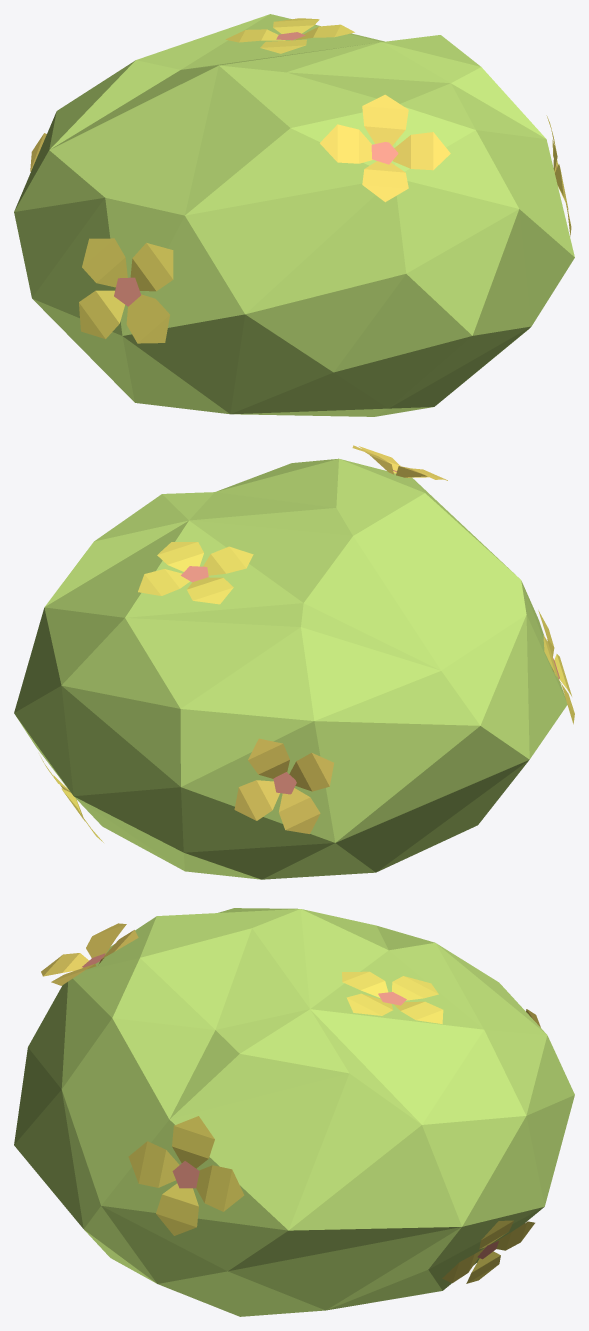
File: FlowerBush_b_m_03.fbx
3 renders of one model, top to bottom at view 1: azimuth 30°, elevation 25°; view 2: azimuth 150°, elevation 25°; view 3: azimuth 270°, elevation 25°, orthographic. The views are drawn at different scales.
Visible parts, largest first — view 1: FlowerBush_b_m_03_LOD0; view 2: FlowerBush_b_m_03_LOD0; view 3: FlowerBush_b_m_03_LOD0.
Boxes of the visible parts, <box> form: FlowerBush_b_m_03_LOD0: <box>14,14,574,416</box>; FlowerBush_b_m_03_LOD0: <box>14,445,574,879</box>; FlowerBush_b_m_03_LOD0: <box>14,908,574,1316</box>.
Size of what is drawn, in the model's own units: 171 by 110 by 167.
